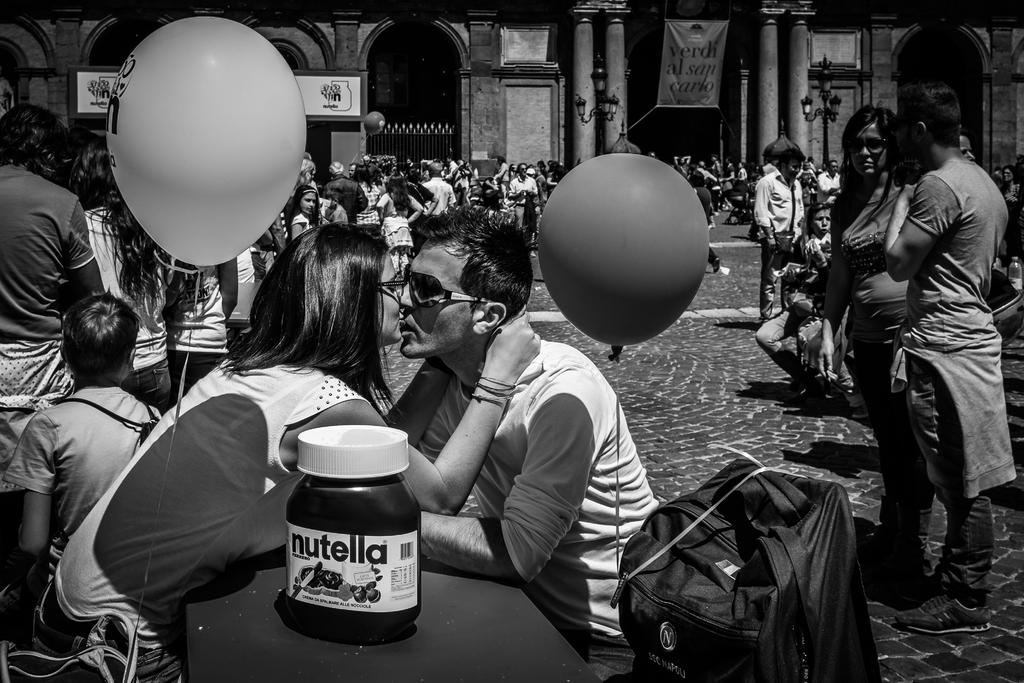Luggage-and-bags: (607, 461, 884, 682)
